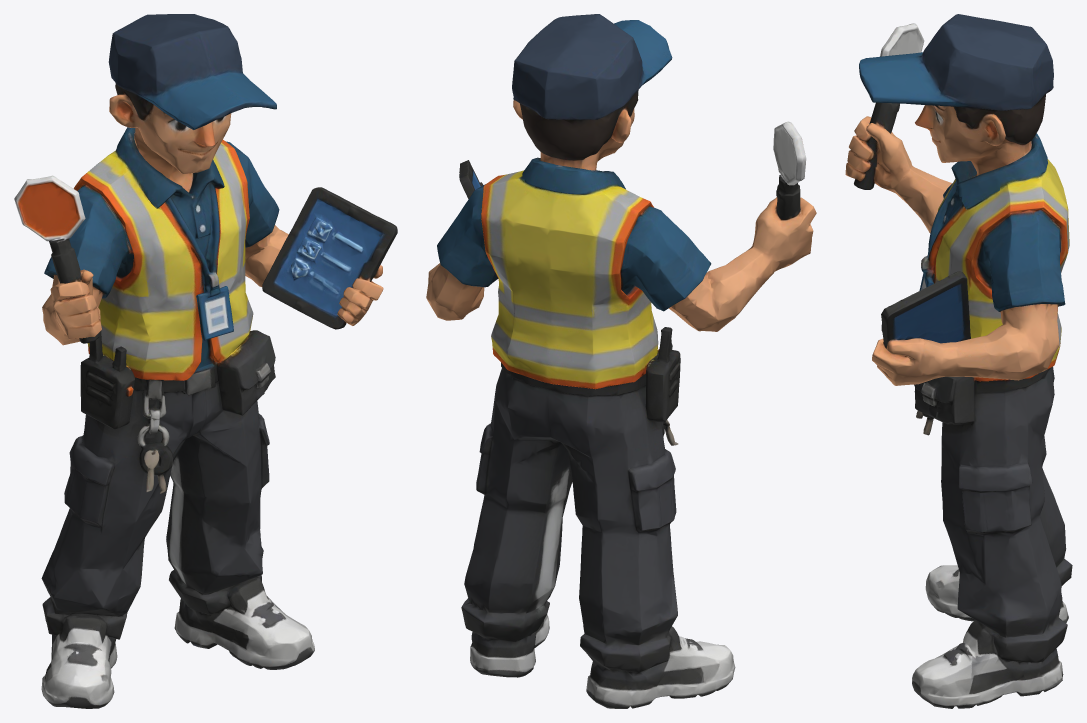
File: customer_queue_character_1k_real.glb
3 views of the same model, side by side, from view 1: azimuth 30°, elevation 25°; view 2: azimuth 150°, elevation 25°; view 3: azimuth 270°, elevation 25° (orthographic). The views are drawn at different scales.
Parts seen in each view (by area): view 1: tripo_node_709a2041-52cb-4b55-96ef-b74ab067fb72; view 2: tripo_node_709a2041-52cb-4b55-96ef-b74ab067fb72; view 3: tripo_node_709a2041-52cb-4b55-96ef-b74ab067fb72.
Boxes of the visible parts, <box> form: tripo_node_709a2041-52cb-4b55-96ef-b74ab067fb72: <box>14,14,397,708</box>; tripo_node_709a2041-52cb-4b55-96ef-b74ab067fb72: <box>426,14,816,708</box>; tripo_node_709a2041-52cb-4b55-96ef-b74ab067fb72: <box>845,14,1072,708</box>.
Size of the model in its own units: 0.5917 by 1 by 0.3242.
1 material, 1 textured.
